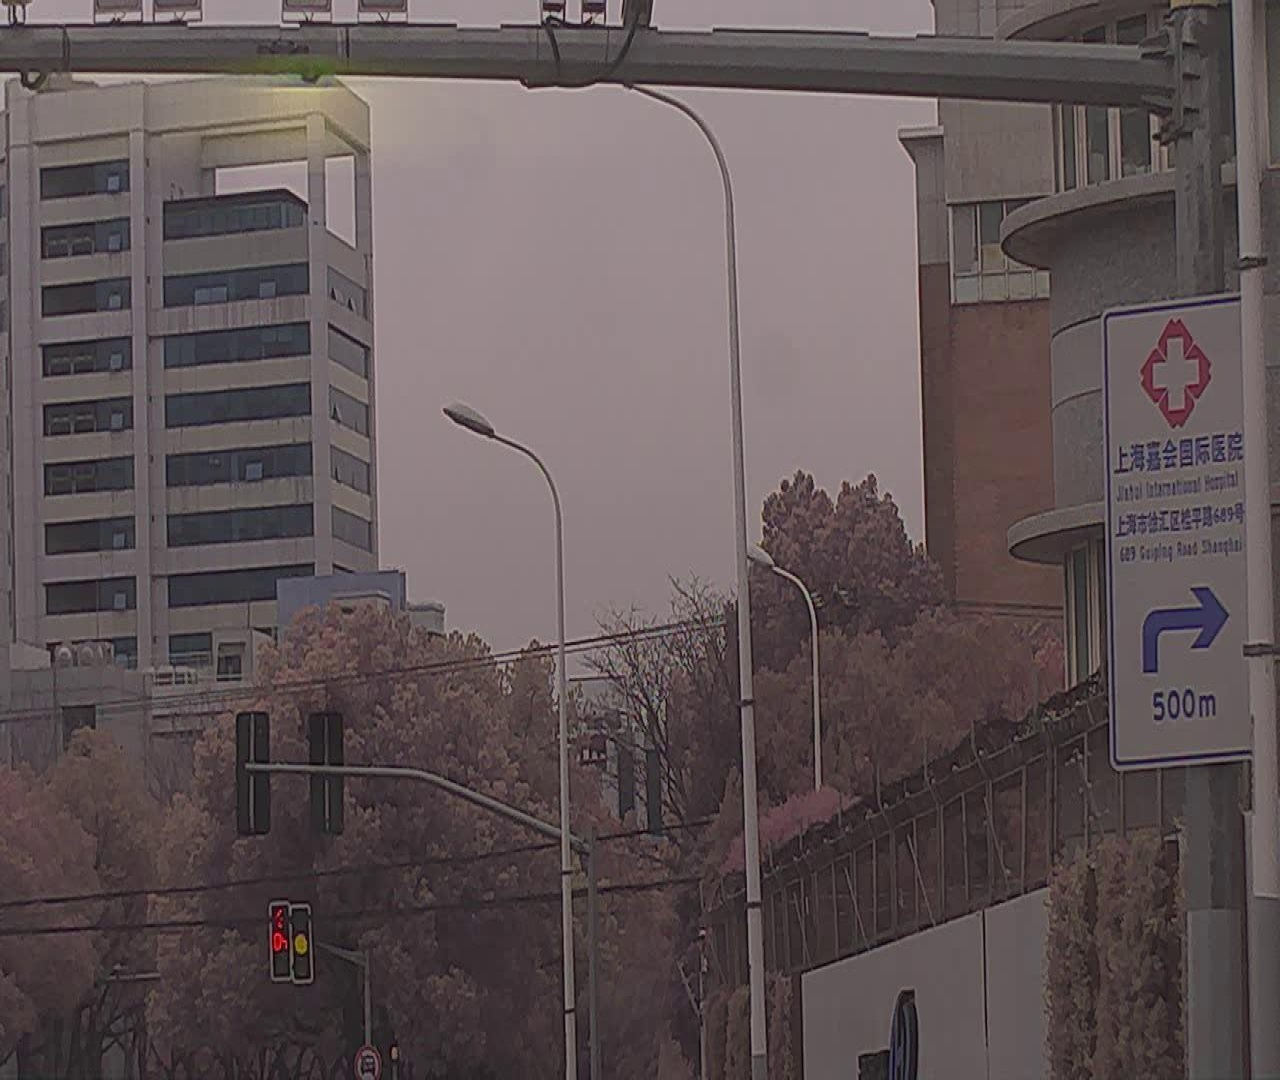red: (270, 903, 291, 979)
yellow: (288, 901, 310, 984)
